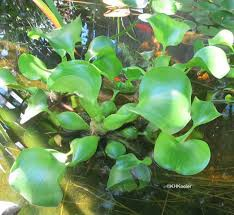water_hyacinth: (10, 12, 233, 206)
